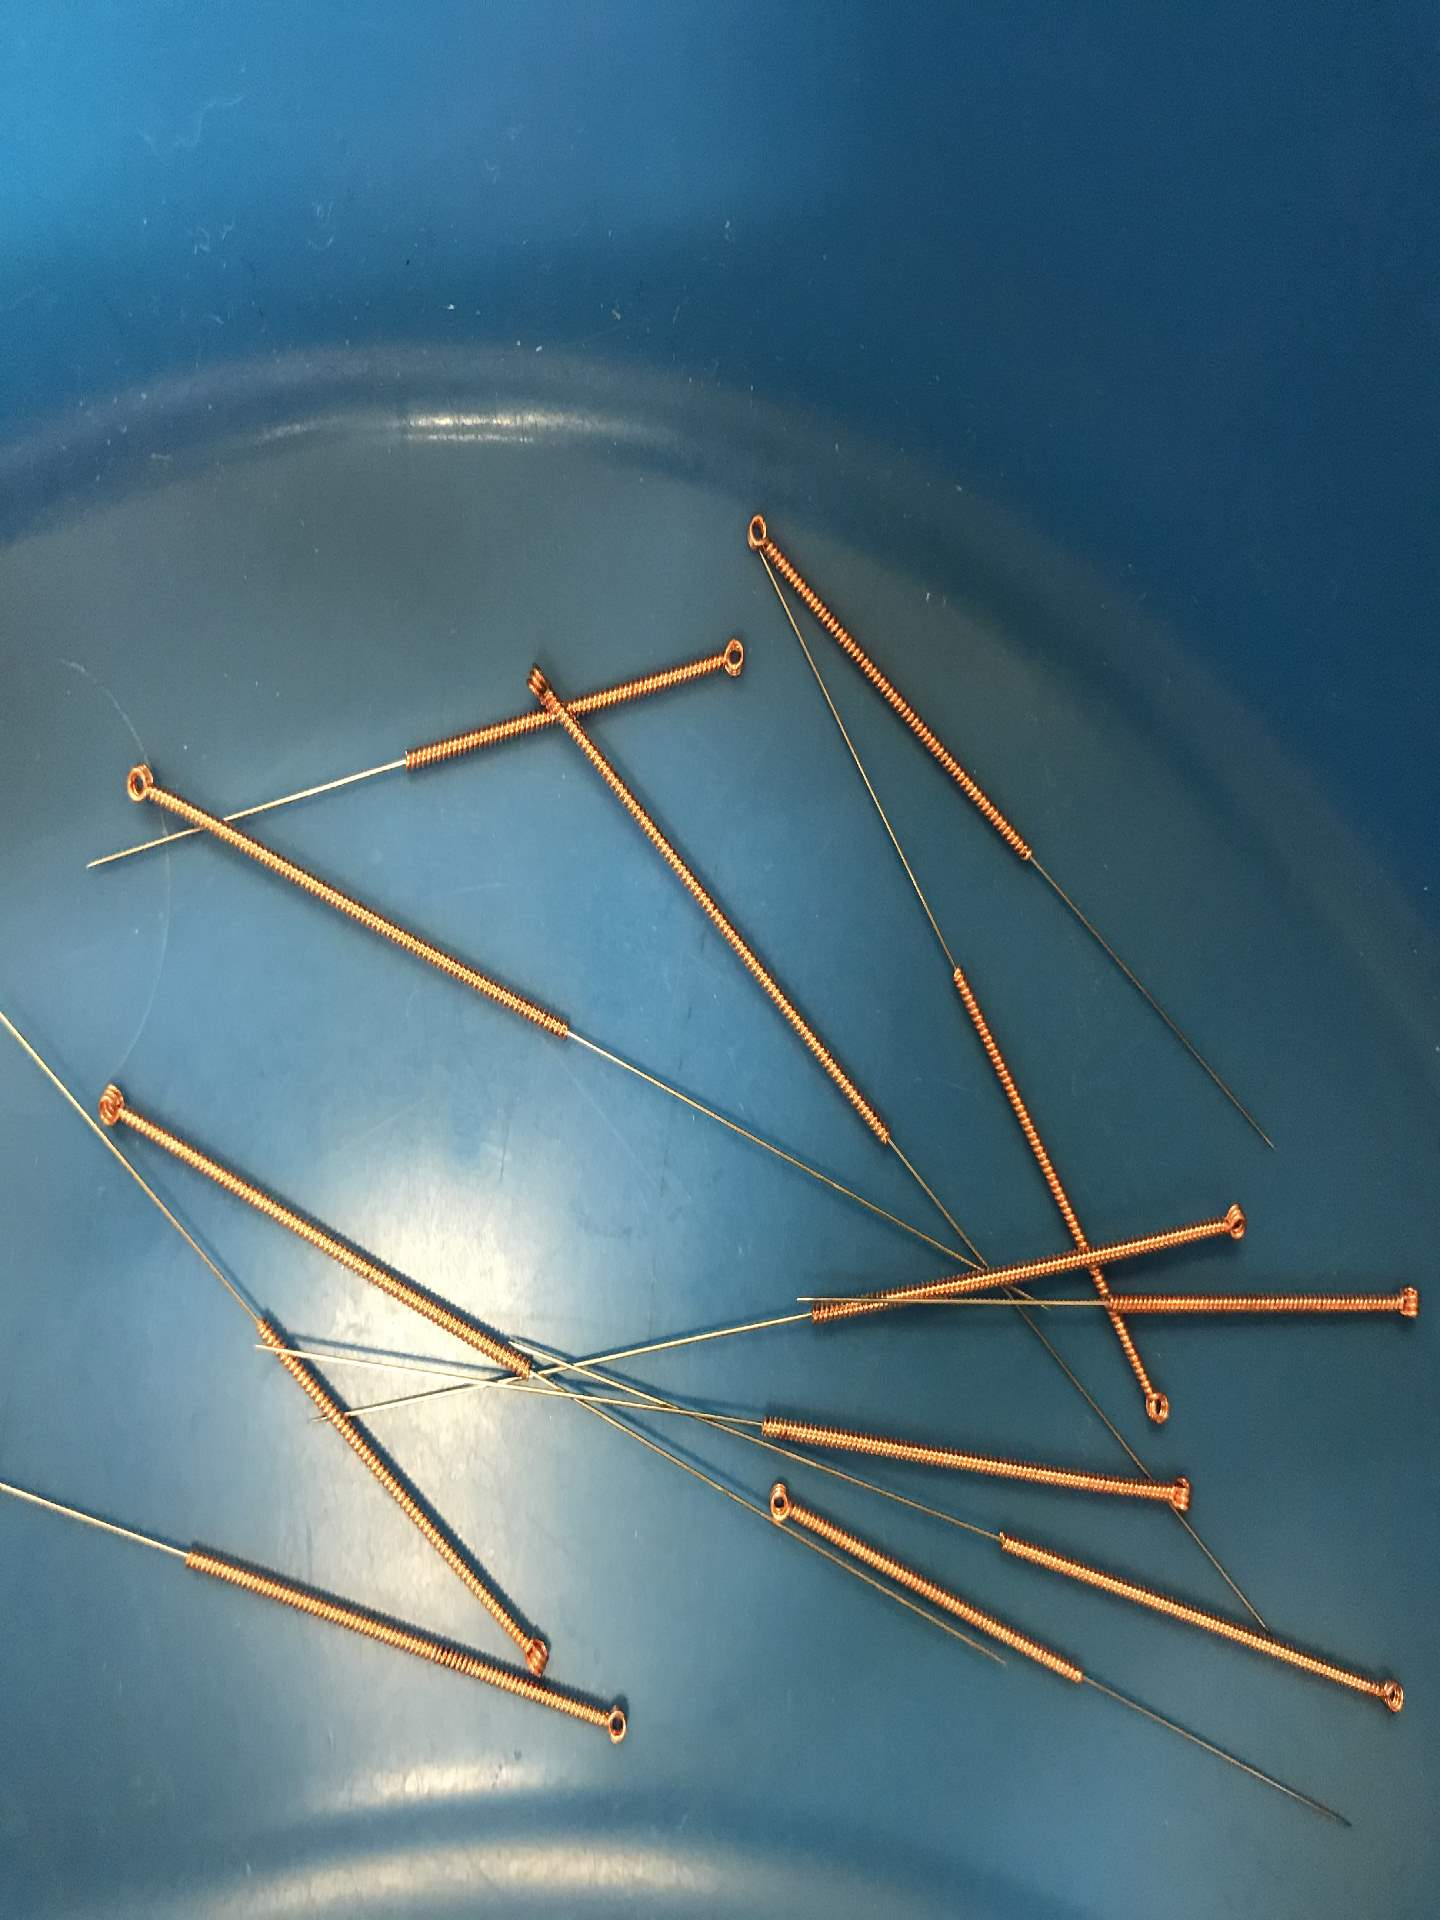needle: (83, 1073, 153, 1140), (110, 751, 175, 816), (508, 1618, 569, 1681), (697, 627, 756, 686), (1199, 1193, 1260, 1250), (587, 1690, 644, 1751), (734, 503, 787, 568), (1373, 1273, 1432, 1330), (756, 1476, 811, 1534), (1128, 1373, 1178, 1435), (1150, 1468, 1207, 1521), (1364, 1668, 1413, 1726), (513, 649, 563, 705)
